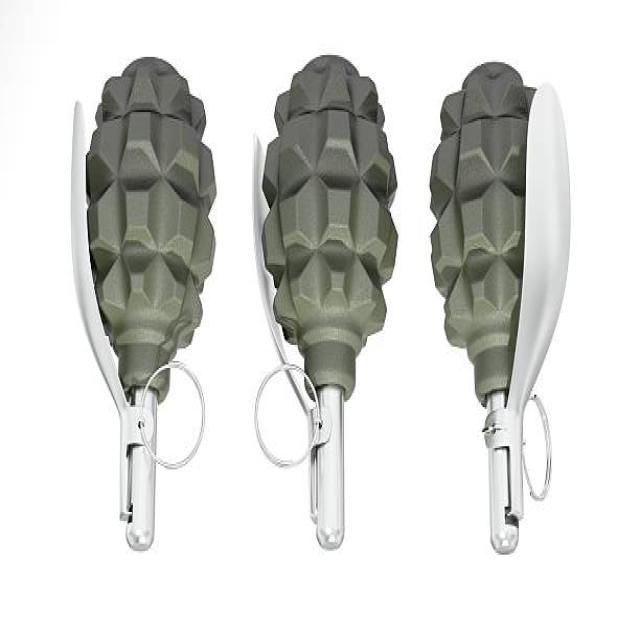grenade: (245, 55, 402, 553), (67, 53, 222, 553), (431, 62, 573, 563)
